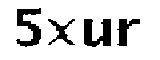5: (11, 5, 45, 49)
r: (116, 14, 146, 51)
u: (81, 16, 114, 50)
x: (46, 14, 79, 49)
